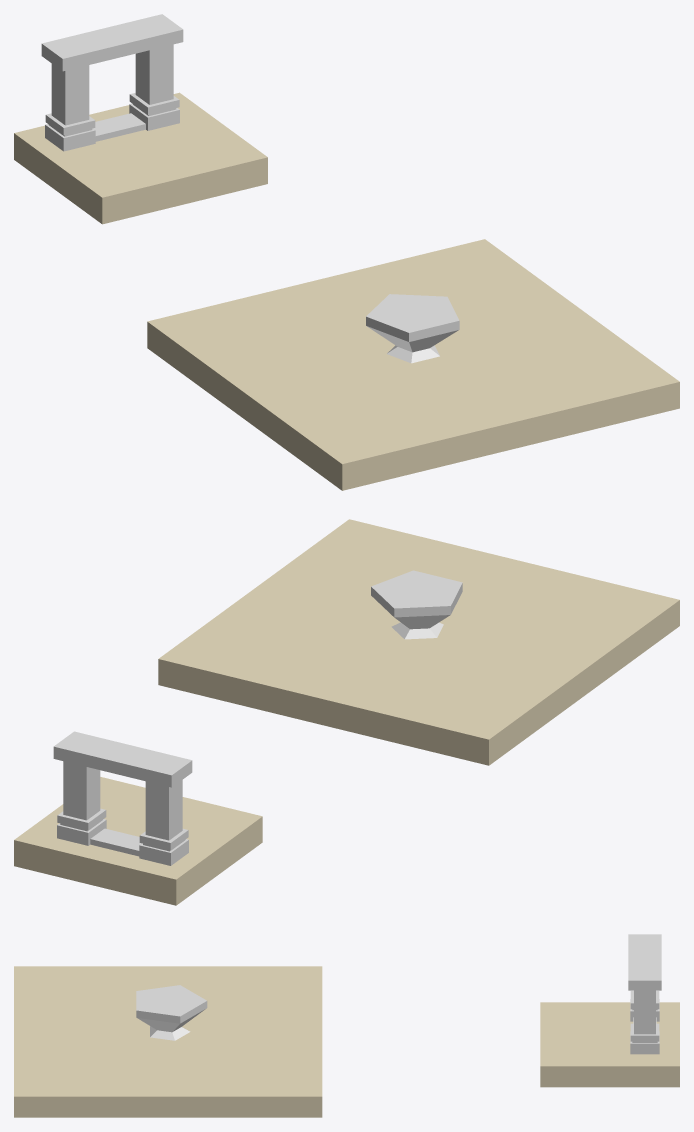
File: world.glb
The picture shows the model from 3 angles, top to bottom: view 1: azimuth 30°, elevation 25°; view 2: azimuth 150°, elevation 25°; view 3: azimuth 270°, elevation 25°; orthographic projection. The views are drawn at different scales.
Visible parts, largest first — view 1: Cube.002, Cube, Cube.001, Cylinder.003; view 2: Cube.002, Cube, Cube.001, Cylinder.003; view 3: Cube.002, Cube, Cube.001, Cylinder.003.
Part boxes in pixels (x1=…): Cube.002: x1=147, y1=239, x2=679, y2=490; Cube: x1=14, y1=92, x2=267, y2=224; Cube.001: x1=41, y1=14, x2=183, y2=151; Cylinder.003: x1=366, y1=294, x2=459, y2=363; Cube.002: x1=158, y1=519, x2=679, y2=765; Cube: x1=14, y1=777, x2=262, y2=905; Cube.001: x1=53, y1=731, x2=192, y2=865; Cylinder.003: x1=371, y1=570, x2=462, y2=639; Cube.002: x1=14, y1=966, x2=322, y2=1117; Cube: x1=540, y1=1002, x2=679, y2=1087; Cube.001: x1=628, y1=934, x2=661, y2=1054; Cylinder.003: x1=136, y1=985, x2=207, y2=1040.
Size of the model in its own units: 26.5 by 9.05 by 57.25.
